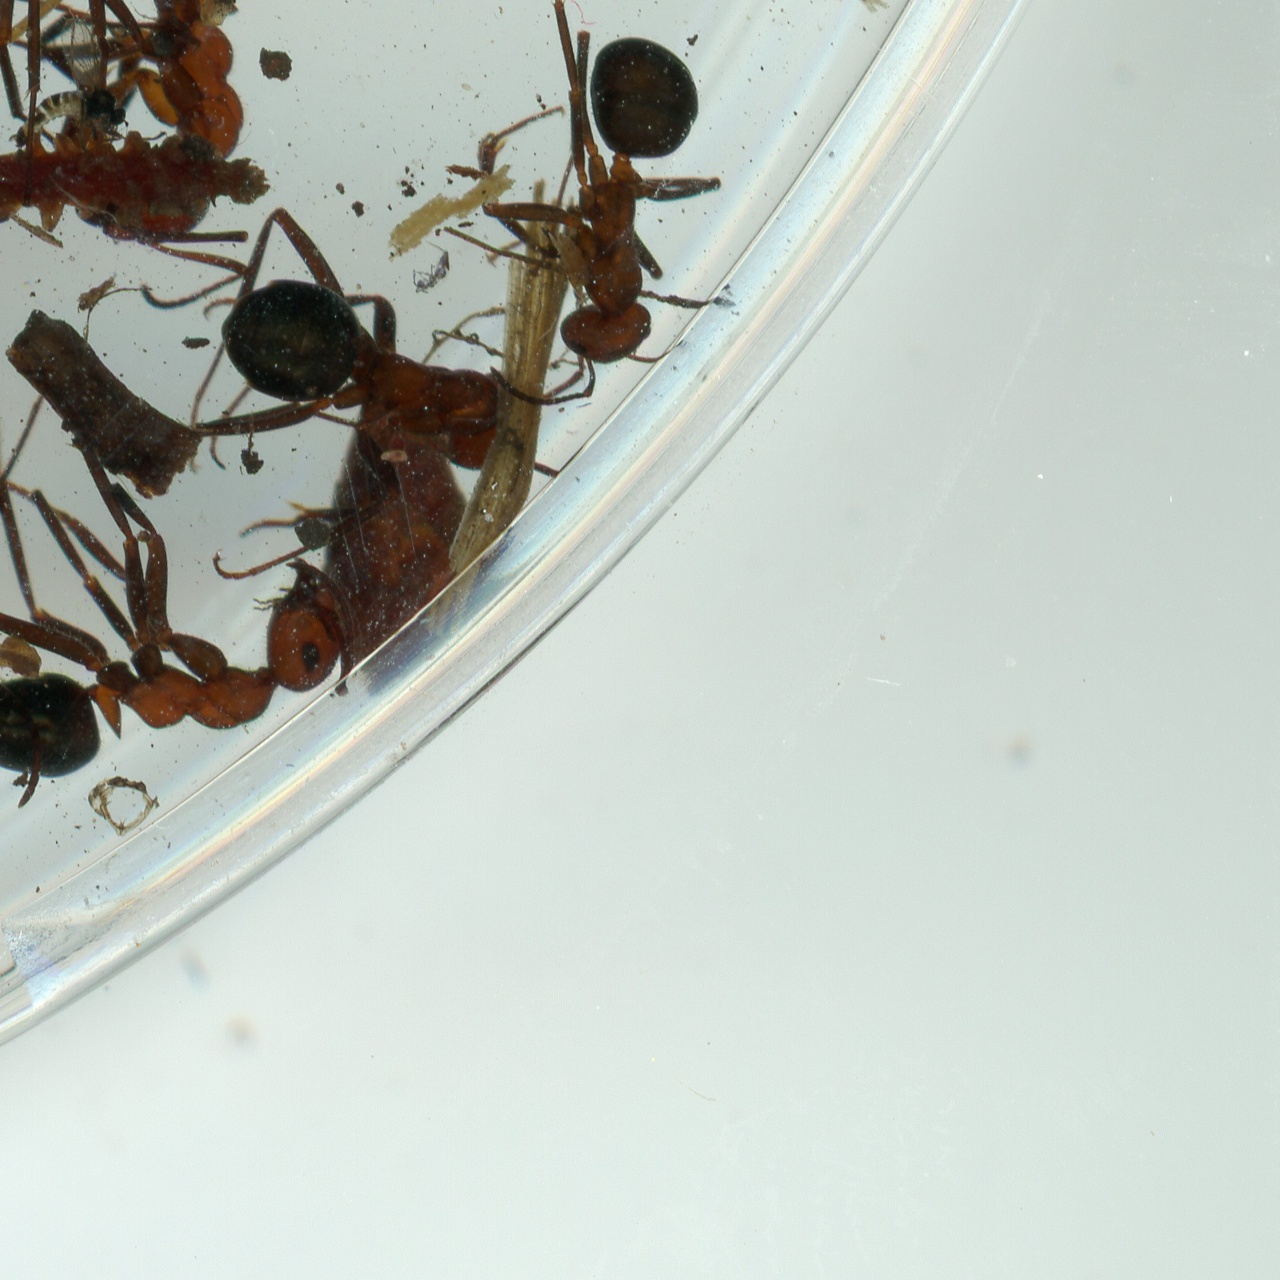arthropod: (170, 183, 606, 538), (0, 390, 359, 788), (438, 0, 737, 413), (0, 376, 110, 1155), (27, 0, 277, 309), (9, 9, 132, 155), (409, 234, 455, 300)
